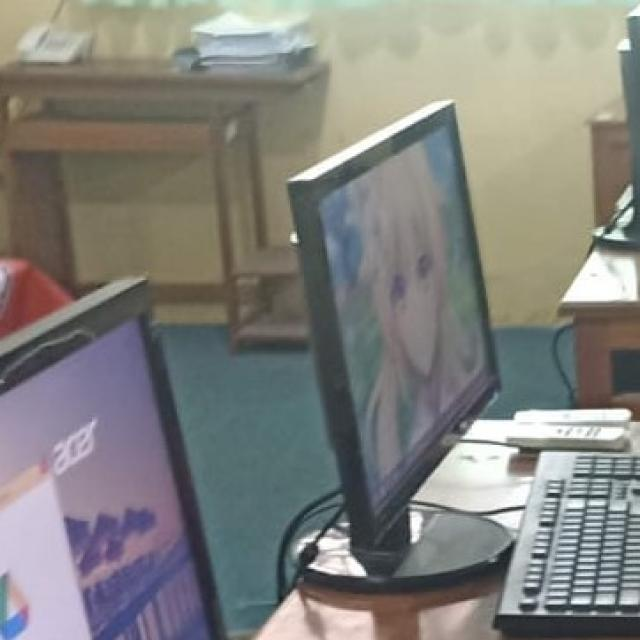onscreen: (289, 102, 499, 575), (0, 278, 221, 640)
